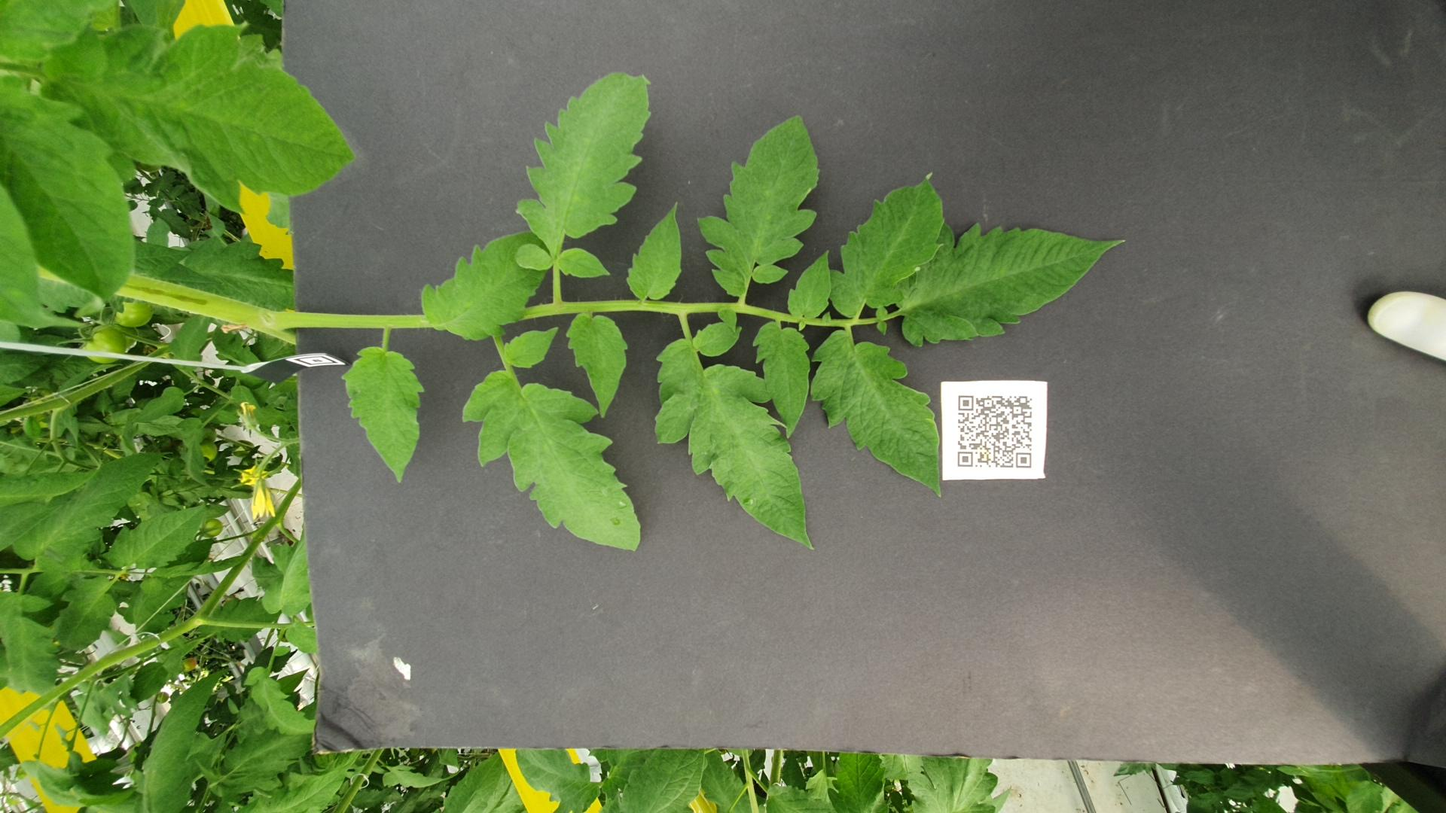Healthy: (1061, 22, 1406, 202), (469, 366, 876, 458), (466, 258, 789, 363), (902, 0, 1312, 79), (827, 505, 1053, 634), (949, 289, 1321, 367), (915, 393, 1251, 462), (560, 455, 857, 529), (432, 6, 646, 96), (878, 466, 1143, 532), (841, 236, 1037, 310), (0, 78, 262, 133), (588, 190, 830, 240), (894, 104, 1026, 164), (435, 60, 557, 118), (666, 423, 876, 456), (704, 317, 886, 355), (0, 139, 101, 202), (202, 0, 392, 33), (912, 351, 1086, 385), (0, 347, 115, 398), (0, 289, 116, 339), (136, 136, 262, 177), (285, 29, 422, 66), (350, 147, 510, 175), (0, 464, 107, 501), (881, 442, 1004, 468), (792, 281, 869, 315), (788, 95, 887, 120), (690, 72, 759, 104)
